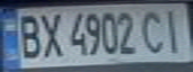0: (100, 8, 121, 56)
2: (115, 8, 139, 56)
4: (63, 8, 87, 56)
9: (81, 8, 103, 56)
B: (12, 10, 45, 60)
C: (139, 7, 169, 55)
I: (157, 6, 190, 54)
X: (36, 9, 66, 58)
